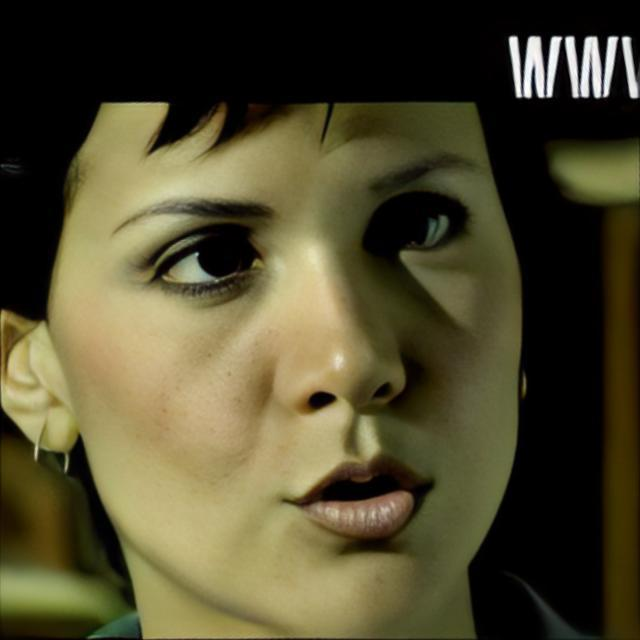sad: (48, 104, 527, 640)
